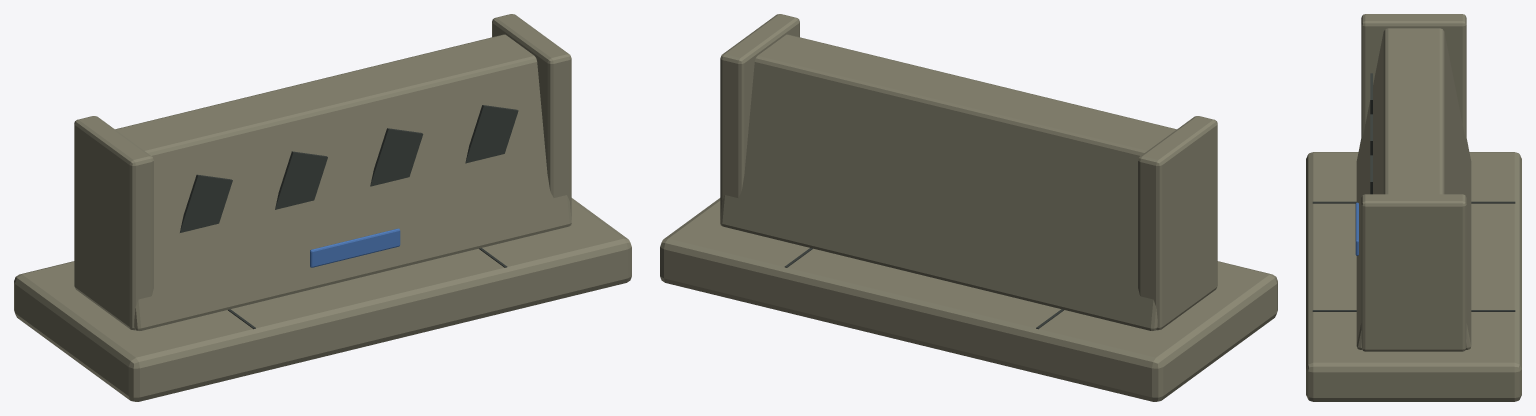
Rendered from wall.glb.
The picture shows the model from 3 angles, left to right: view 1: azimuth 30°, elevation 25°; view 2: azimuth 150°, elevation 25°; view 3: azimuth 270°, elevation 25°; orthographic projection. The views are drawn at different scales.
Parts seen in each view (by area): view 1: Concrete, Steel, TeamColor; view 2: Concrete; view 3: Concrete, Steel, TeamColor.
Part boxes in pixels (left/top/right/bottom): Concrete: left=14, top=14, right=631, bottom=401; Steel: left=180, top=105, right=518, bottom=329; TeamColor: left=310, top=228, right=400, bottom=267; Concrete: left=660, top=14, right=1277, bottom=401; Concrete: left=1306, top=14, right=1521, bottom=401; Steel: left=1312, top=73, right=1515, bottom=311; TeamColor: left=1355, top=202, right=1358, bottom=255.
Bounding box in the file's own units: 3.8 × 1.54 × 1.6.
